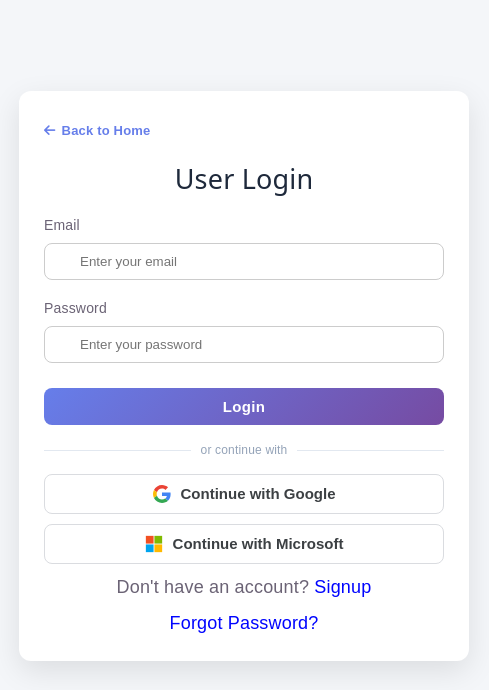
UserAuth › shows inline password validation errors for a weak password when signup form is submitted
Click the link "Signup" at [343, 587], box [314,577,371,597]
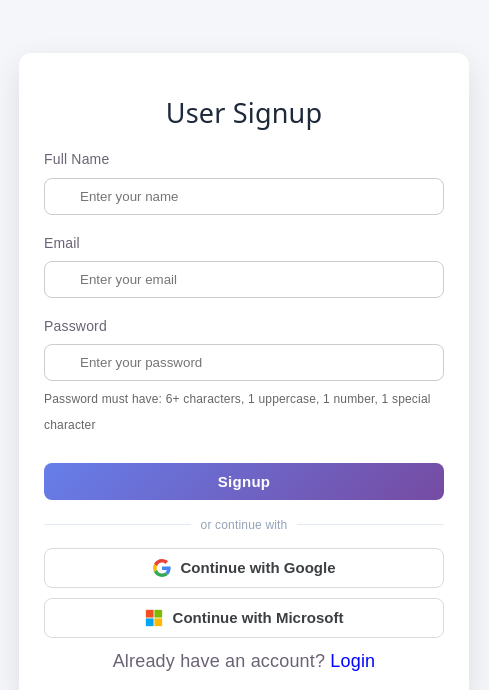
Type "Test User" into the field with placeholder "Enter your name" at [244, 196], box [44,178,444,214]
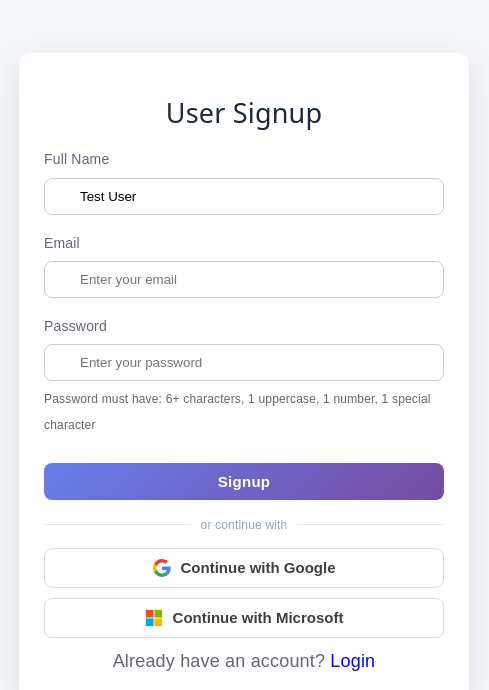
Type "test@example.com" into the field with placeholder "Enter your email" at [244, 279], box [44,261,444,298]
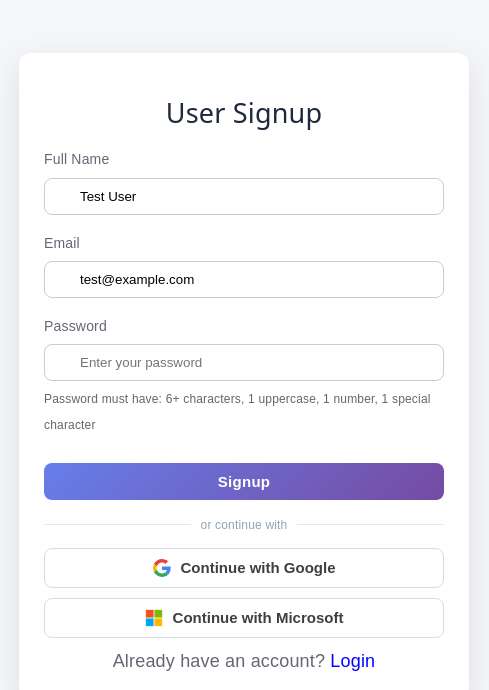
Type "weak" into the password field with placeholder "Enter your password" at [244, 362], box [44,344,444,381]
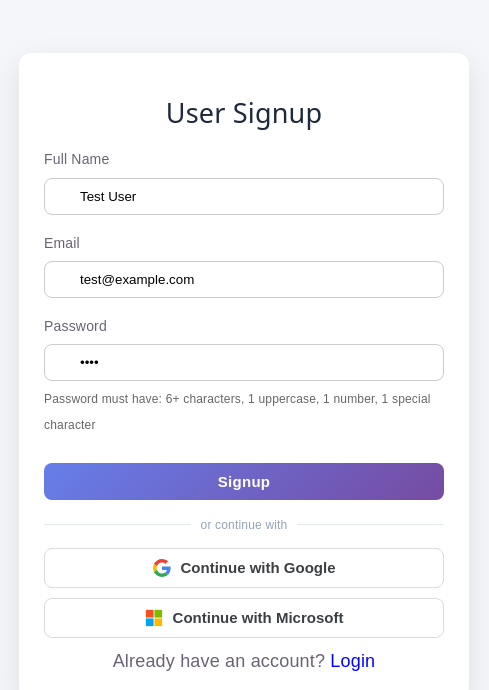
Submit the form from the button "Signup", box [44,463,444,500]
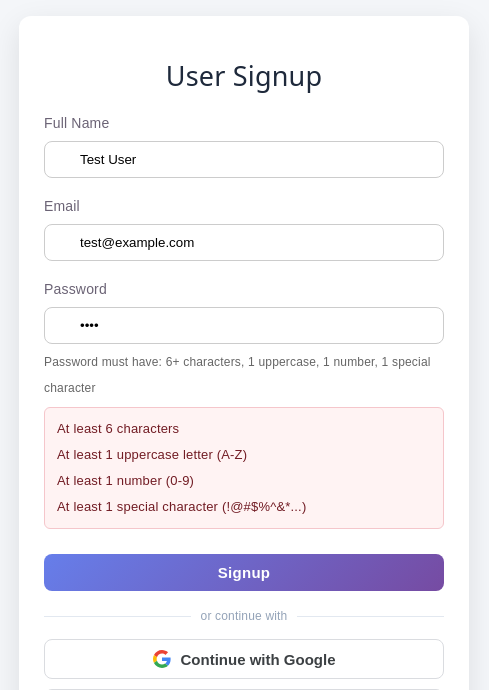
Result: the list with test id "password-errors" is shown at [44,407,444,529]
